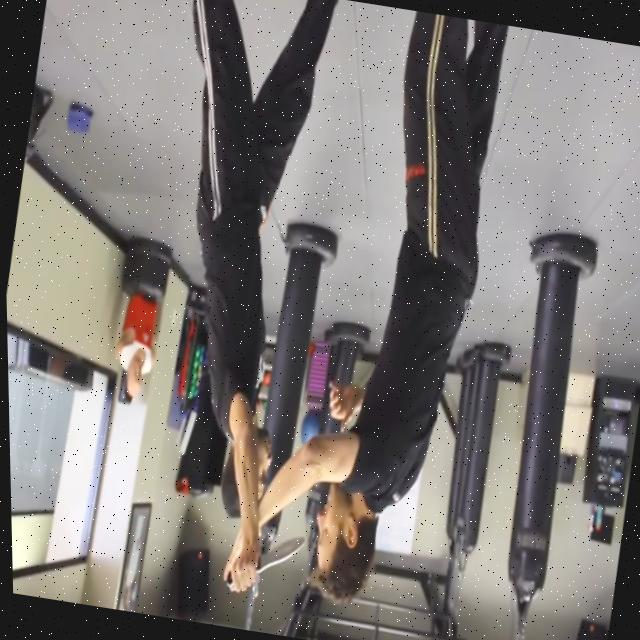knife: (251, 528, 305, 581)
